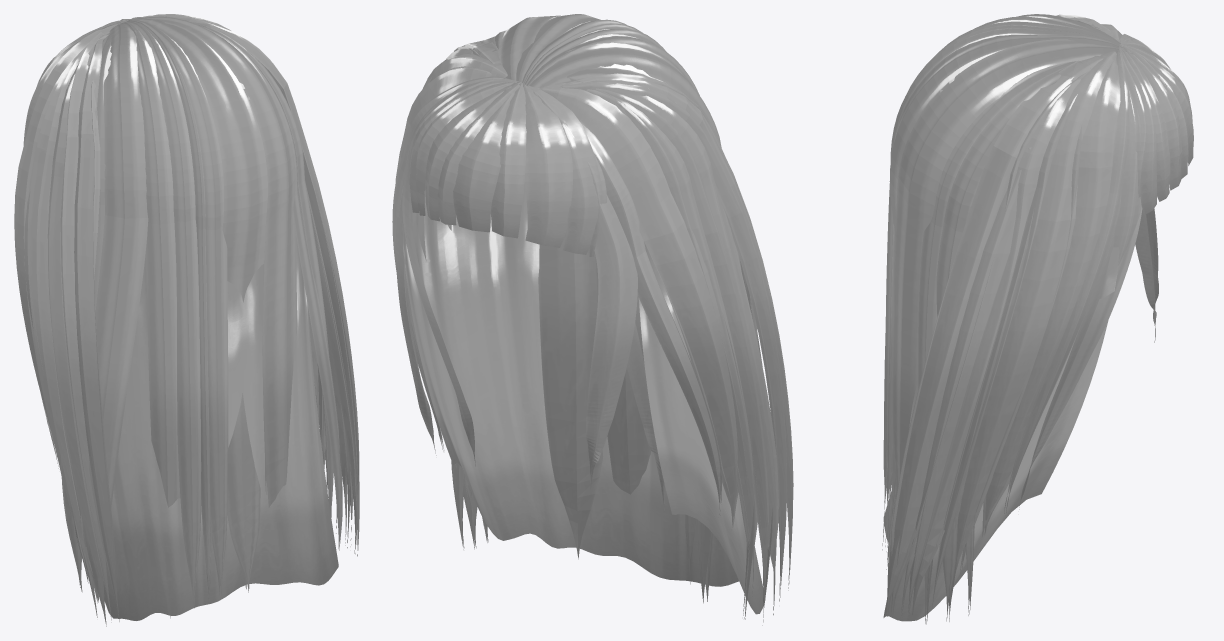
Rendered from hair-masculine-longLoose.glb.
The picture shows the model from 3 angles, left to right: view 1: azimuth 30°, elevation 25°; view 2: azimuth 150°, elevation 25°; view 3: azimuth 270°, elevation 25°; orthographic projection. The views are drawn at different scales.
Visible parts, largest first — view 1: hair-longLoose; view 2: hair-longLoose; view 3: hair-longLoose.
Boxes of the visible parts, box(x1,y1,x2,y2) form: hair-longLoose: box(14, 14, 359, 626); hair-longLoose: box(392, 14, 793, 625); hair-longLoose: box(882, 14, 1193, 624).
Size of the model in its own units: 0.2713 by 0.4689 by 0.2985.
3 materials, 3 textured.
